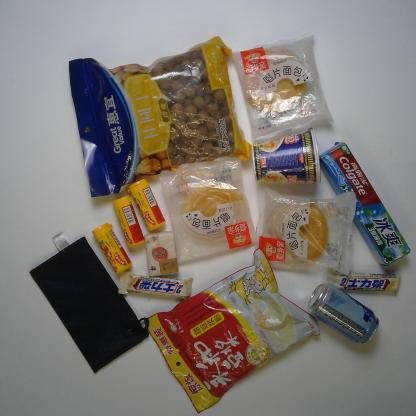Alcohol: (306, 282, 380, 345)
Candy: (127, 177, 166, 233), (92, 222, 133, 274), (110, 195, 146, 249)
Chocolate: (116, 270, 193, 300), (326, 267, 402, 295)
Dessert: (231, 29, 334, 145), (158, 154, 258, 266), (252, 181, 360, 277)
Dried Food: (67, 35, 252, 199)
Instant Drink: (143, 247, 321, 415)
Instant Noodles: (251, 124, 322, 186)
Personal Hygiene: (319, 140, 412, 269)
Stationery: (28, 231, 150, 374)
Tissue: (144, 230, 179, 278)
